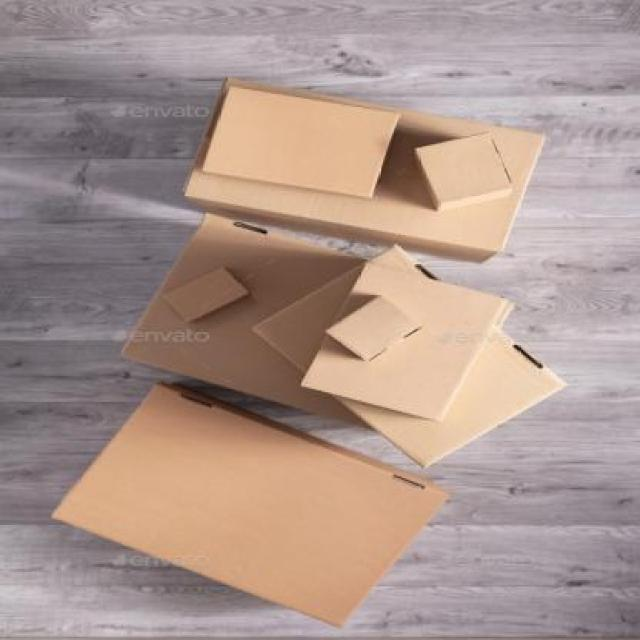box: (44, 403, 493, 631), (157, 73, 551, 269), (111, 205, 458, 417), (245, 255, 584, 468), (274, 260, 517, 408), (299, 292, 421, 367), (166, 264, 252, 339)
